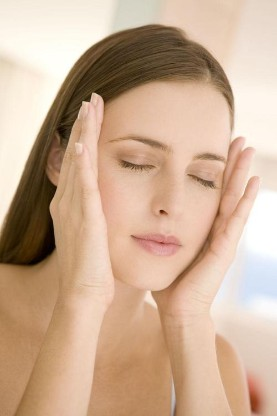闭眼: (115, 146, 159, 177), (184, 164, 221, 194)
